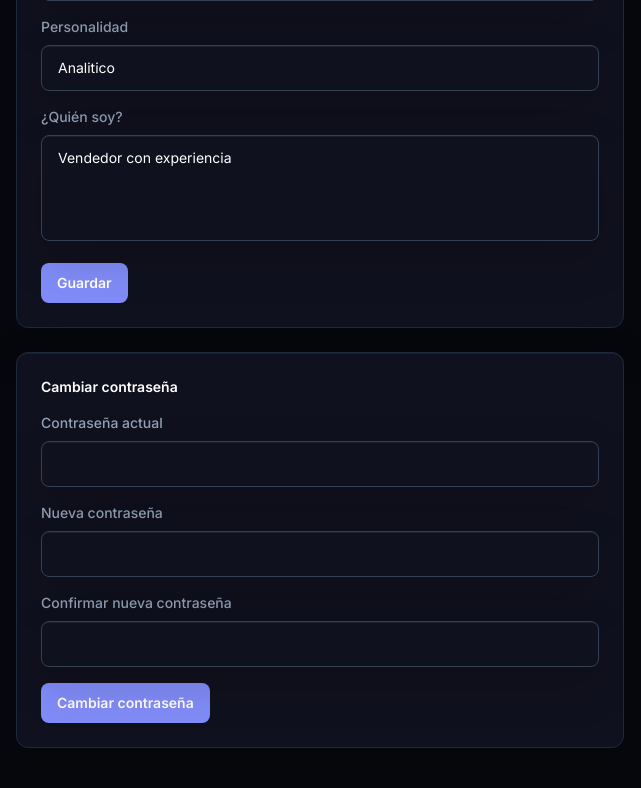
Test case: SettingsScreen › changes the password when the confirmation matches
The image size is (641, 788).
(page scrolled)
In the password field labelled "Contraseña actual": point(320, 464) [41,441,599,487], type "OldPass123!"
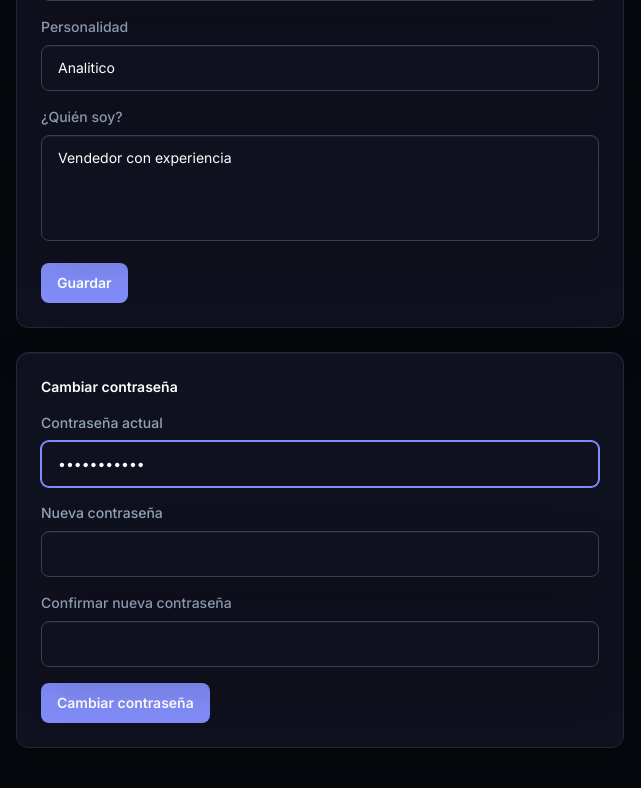
In the password field labelled "Nueva contraseña": point(320, 554) [41,531,599,577], type "NewPass123!"
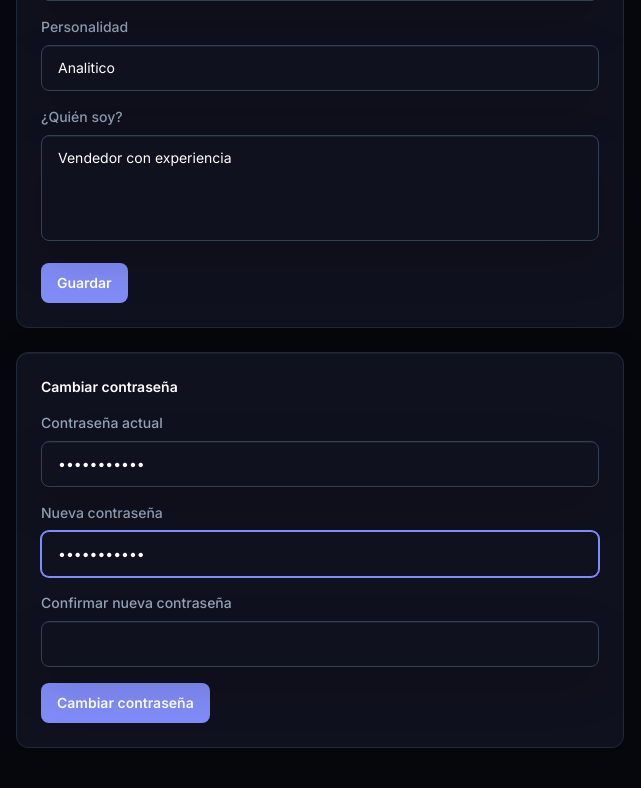
In the password field labelled "Confirmar nueva contraseña": point(320, 644) [41,621,599,667], type "NewPass123!"
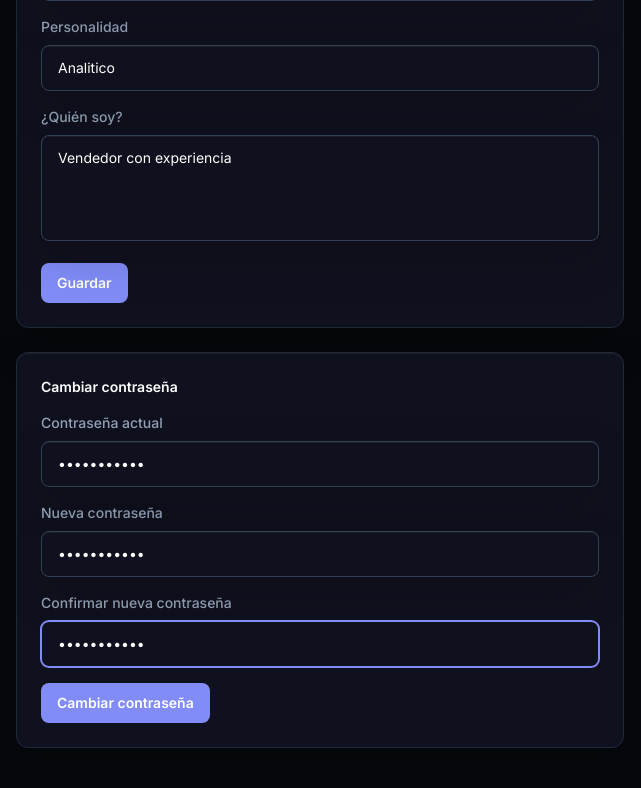
Click the button "Cambiar contraseña": point(125, 703) [41,683,210,723]
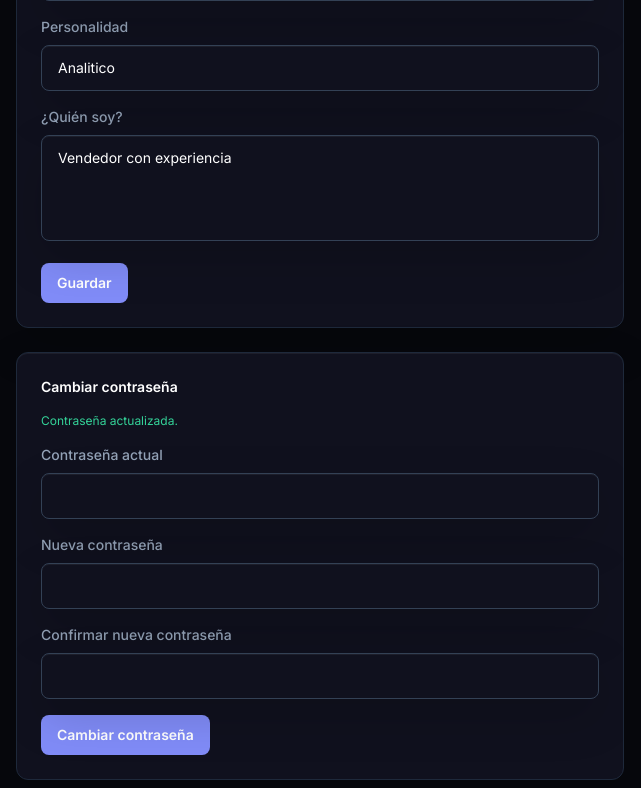
Check: the text "Contraseña actualizada." is shown, box [41,413,178,428]
